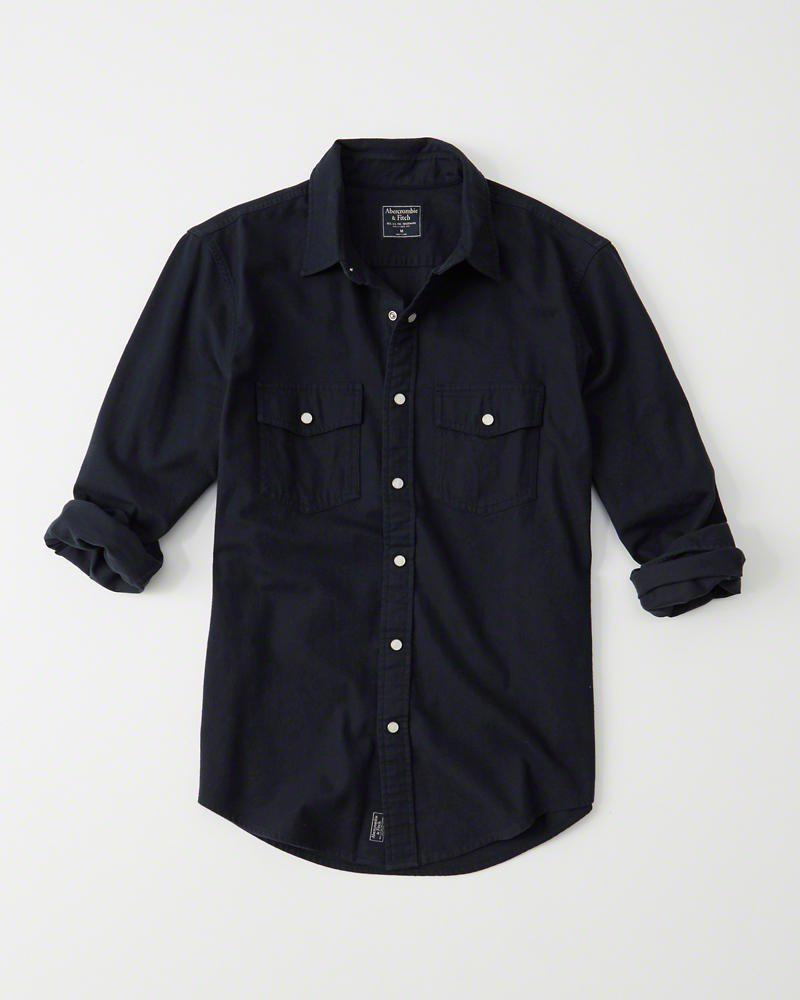teeshirt: (42, 130, 747, 886)
